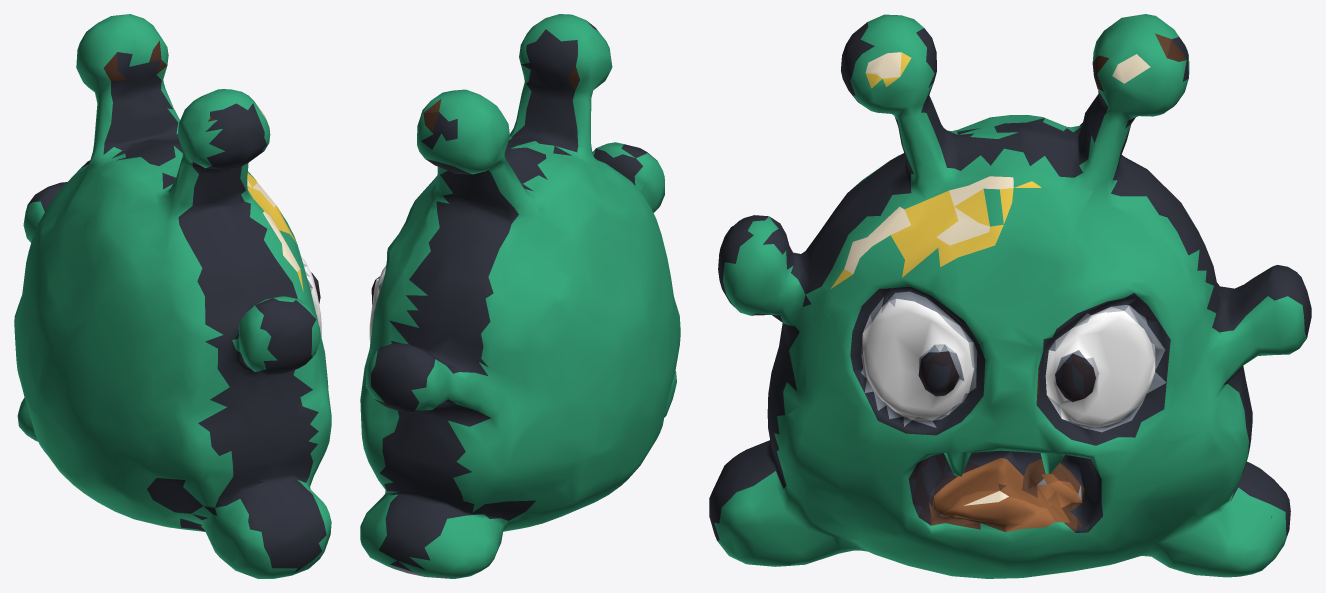
File: SK_enemy_slime_green.fbx
3 views of the same model, side by side, from view 1: azimuth 30°, elevation 25°; view 2: azimuth 150°, elevation 25°; view 3: azimuth 270°, elevation 25° (orthographic). The views are drawn at different scales.
Parts seen in each view (by area): view 1: SK_enemy_slime_green; view 2: SK_enemy_slime_green; view 3: SK_enemy_slime_green.
Part boxes in pixels (x1=…): SK_enemy_slime_green: x1=14, y1=14, x2=331, y2=578; SK_enemy_slime_green: x1=360, y1=14, x2=680, y2=578; SK_enemy_slime_green: x1=709, y1=14, x2=1311, y2=578.
Bounding box in the file's own units: 41.81 × 75 × 75.64.
Materials: 1 (1 with a texture image).
